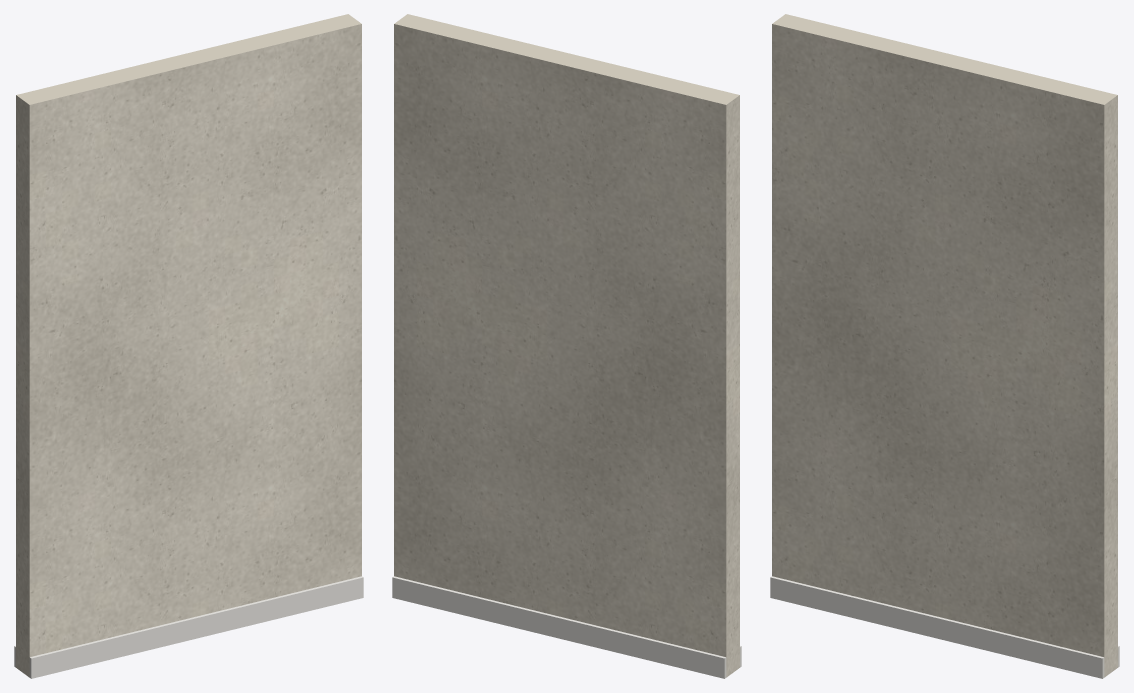
The model's file is interior_wall_end.glb.
3 views of the same model, side by side, from view 1: azimuth 30°, elevation 25°; view 2: azimuth 150°, elevation 25°; view 3: azimuth 330°, elevation 25° (orthographic).
Parts seen in each view (by area): view 1: interior_wall_end_plaster, interior_wall_end_trim; view 2: interior_wall_end_plaster, interior_wall_end_trim; view 3: interior_wall_end_plaster, interior_wall_end_trim.
Boxes of the visible parts, <box> form: interior_wall_end_plaster: <box>16,14,361,677</box>; interior_wall_end_trim: <box>14,576,363,678</box>; interior_wall_end_plaster: <box>394,14,739,677</box>; interior_wall_end_trim: <box>392,576,741,678</box>; interior_wall_end_plaster: <box>772,14,1117,677</box>; interior_wall_end_trim: <box>770,576,1119,678</box>.
Bounding box in the file's own units: 1.7 × 2.8 × 0.15.
2 materials, 1 textured.
